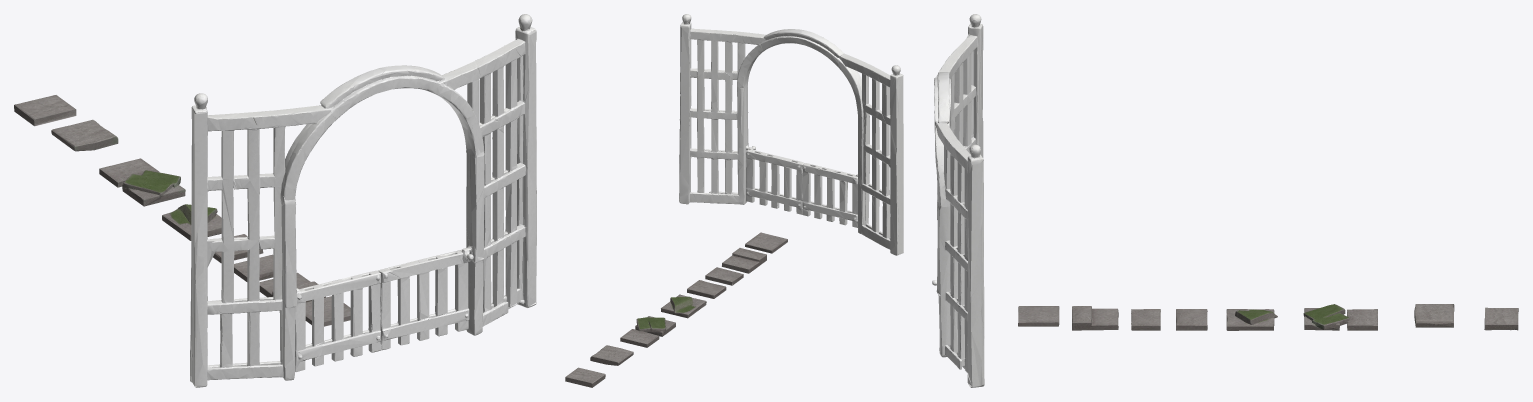
Rendered from garden_base_a.glb.
3 views of the same model, side by side, from view 1: azimuth 30°, elevation 25°; view 2: azimuth 150°, elevation 25°; view 3: azimuth 270°, elevation 25° (orthographic). The views are drawn at different scales.
Size of the model in its own units: 1.01 by 0.8295 by 1.82.
Materials: 1 (1 with a texture image).
